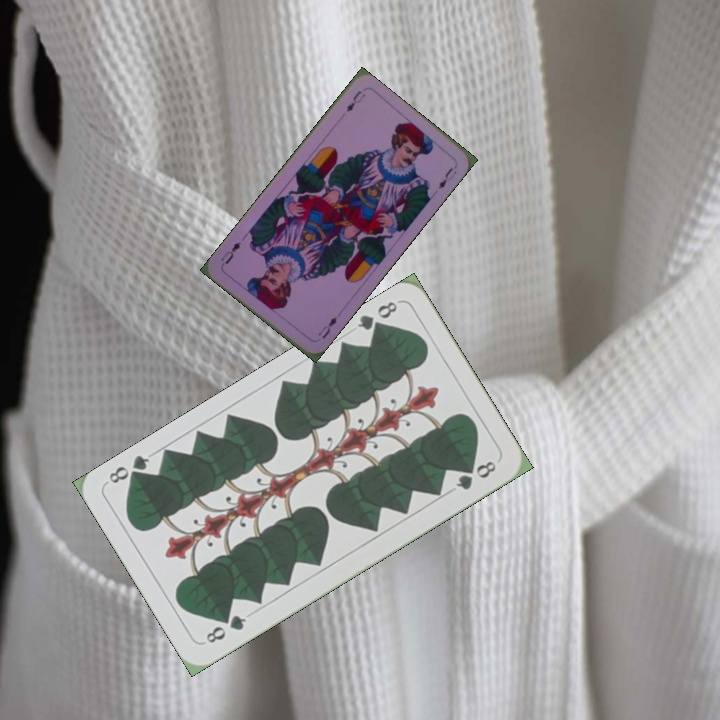EU: (342, 86, 368, 115), (314, 313, 340, 341)
G8: (353, 297, 400, 338), (201, 611, 250, 646)
